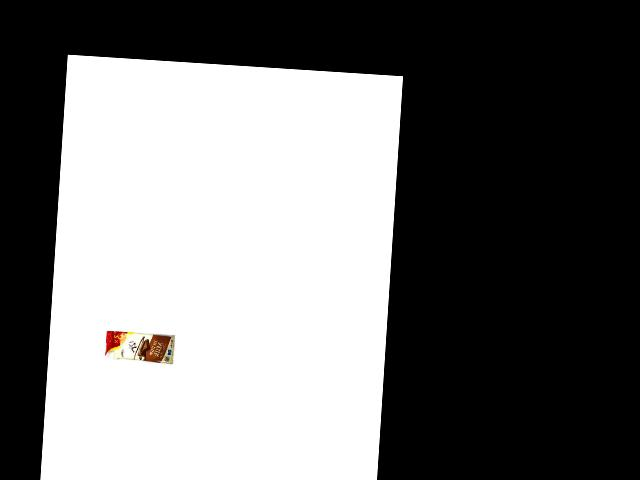chocolate: (103, 328, 173, 365)
